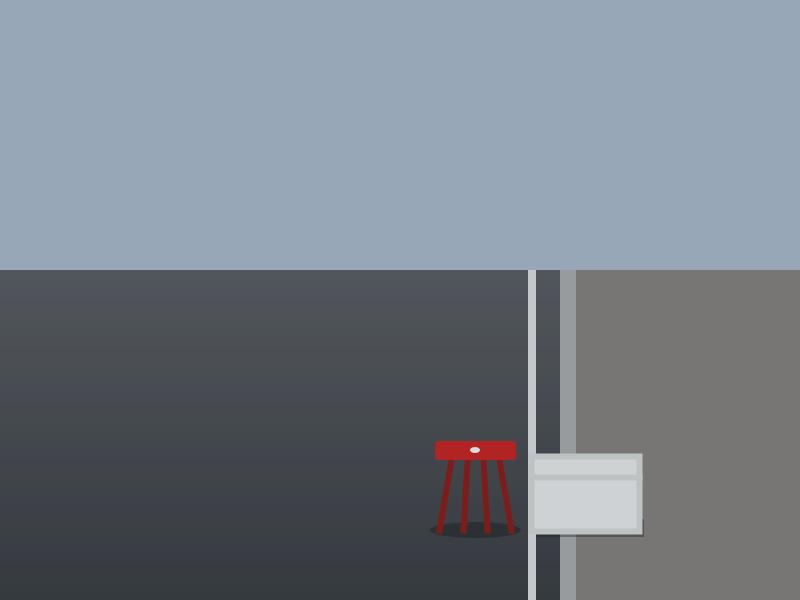ROAD_OBSTACLE: (531, 456, 639, 531), (435, 441, 516, 530)
